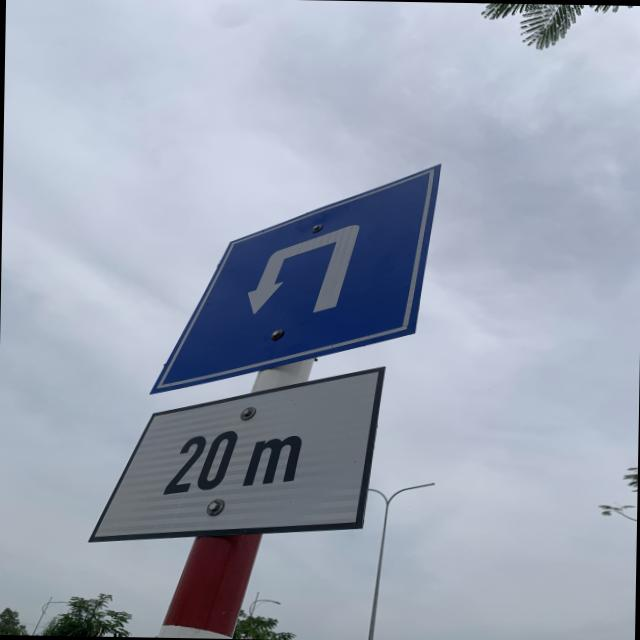Den_Giao_Thong: (137, 158, 441, 398)
